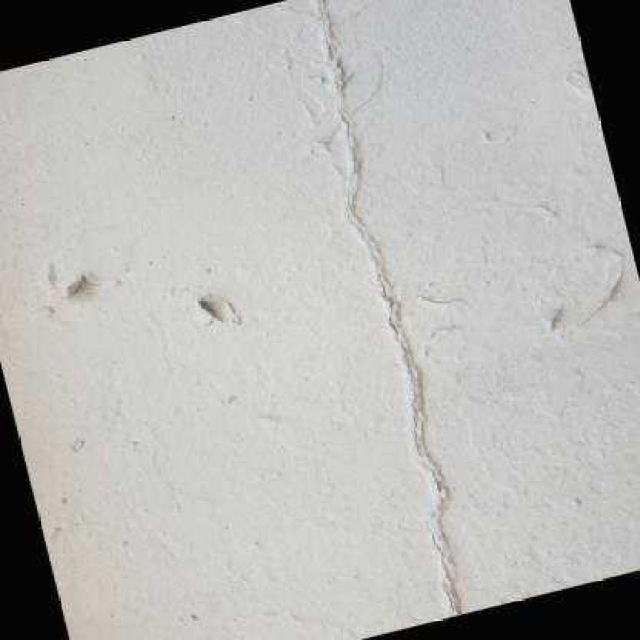D00: (315, 0, 462, 618)
